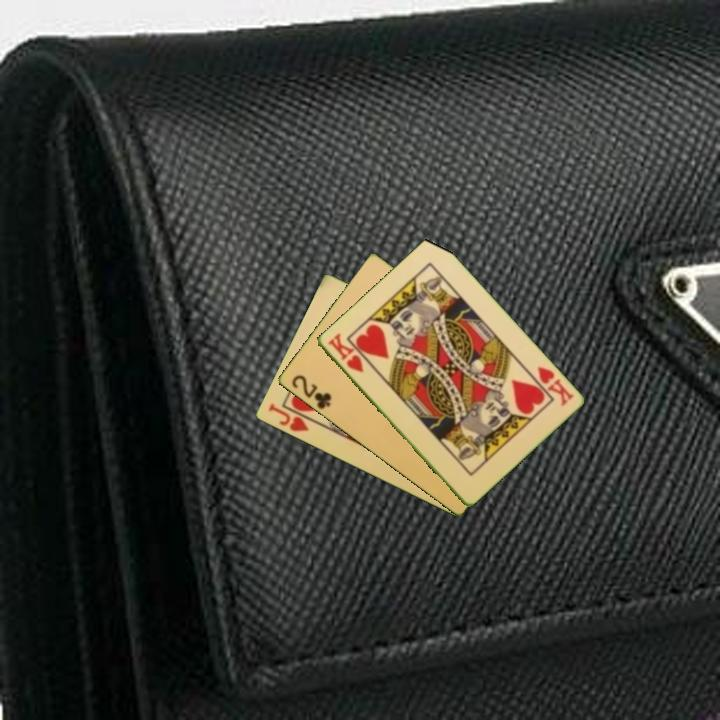2c: (287, 371, 334, 412)
Jh: (264, 400, 311, 435)
Kh: (533, 363, 576, 409), (324, 330, 366, 375)
